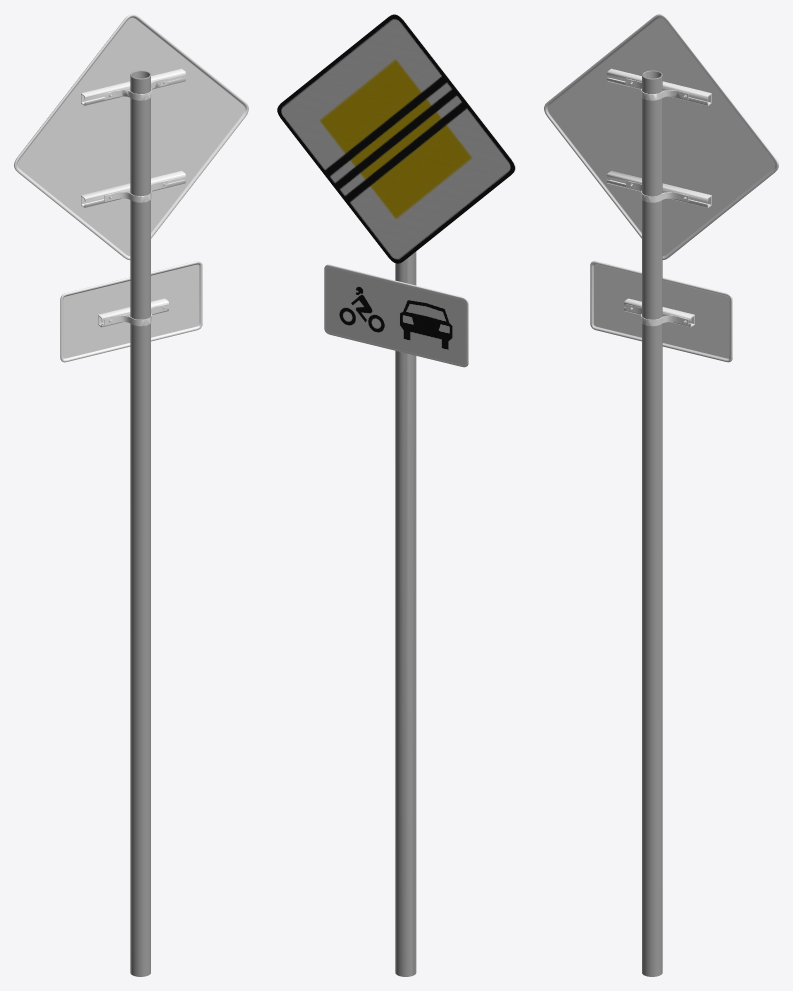
The model's file is o3_segnale_08.glb.
The picture shows the model from 3 angles, left to right: view 1: azimuth 30°, elevation 25°; view 2: azimuth 150°, elevation 25°; view 3: azimuth 330°, elevation 25°; orthographic projection.
Visible parts, largest first — view 1: sb_modello; view 2: sb_modello; view 3: sb_modello.
Part boxes in pixels (<box>): sb_modello: <box>14,14,248,976</box>; sb_modello: <box>277,14,515,976</box>; sb_modello: <box>544,14,778,976</box>.
Size of the model in its own units: 0.7422 by 2.88 by 0.0843.
6 materials, 2 textured.
